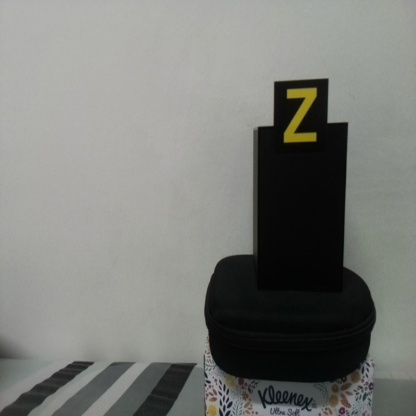id_15: (273, 81, 327, 152)
